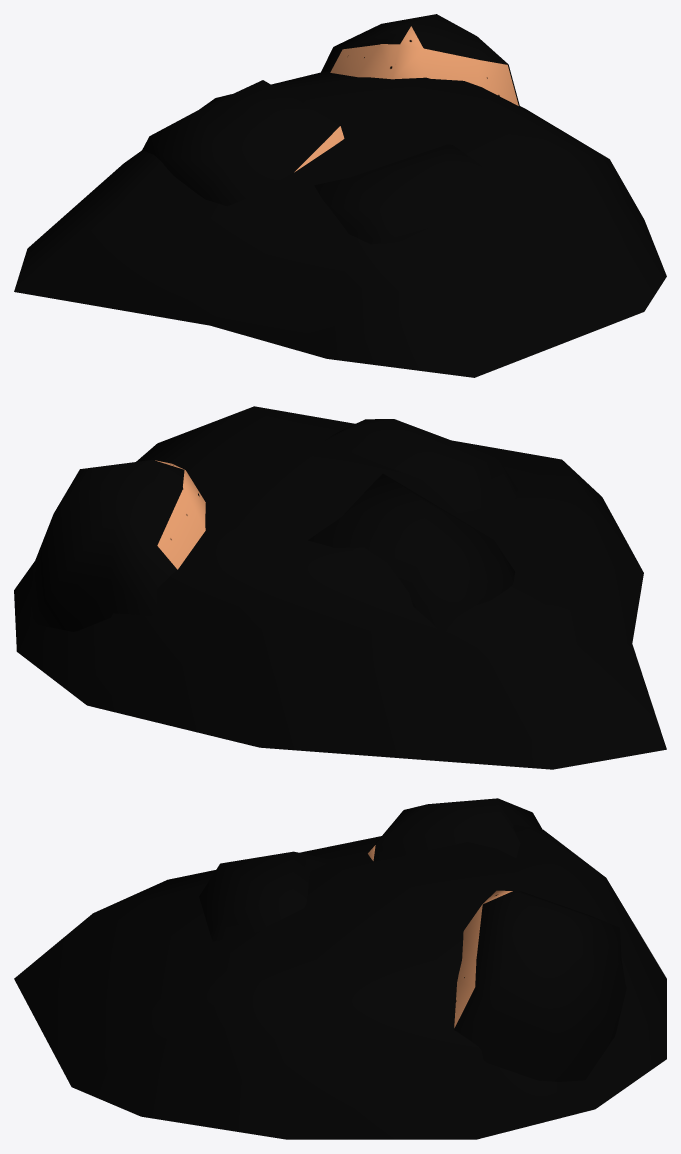
File: crystal-crossroads__Crystal_Base.glb
3 renders of one model, top to bottom at view 1: azimuth 30°, elevation 25°; view 2: azimuth 150°, elevation 25°; view 3: azimuth 270°, elevation 25°, orthographic. The views are drawn at different scales.
Visible parts, largest first — view 1: Crystal_Base; view 2: Crystal_Base; view 3: Crystal_Base.
Boxes of the visible parts, <box> form: Crystal_Base: <box>14,14,666,377</box>; Crystal_Base: <box>14,406,666,769</box>; Crystal_Base: <box>14,798,666,1139</box>.
Size of the model in its own units: 5.33 by 1.43 by 4.84.
Materials: 2 (1 with a texture image).
